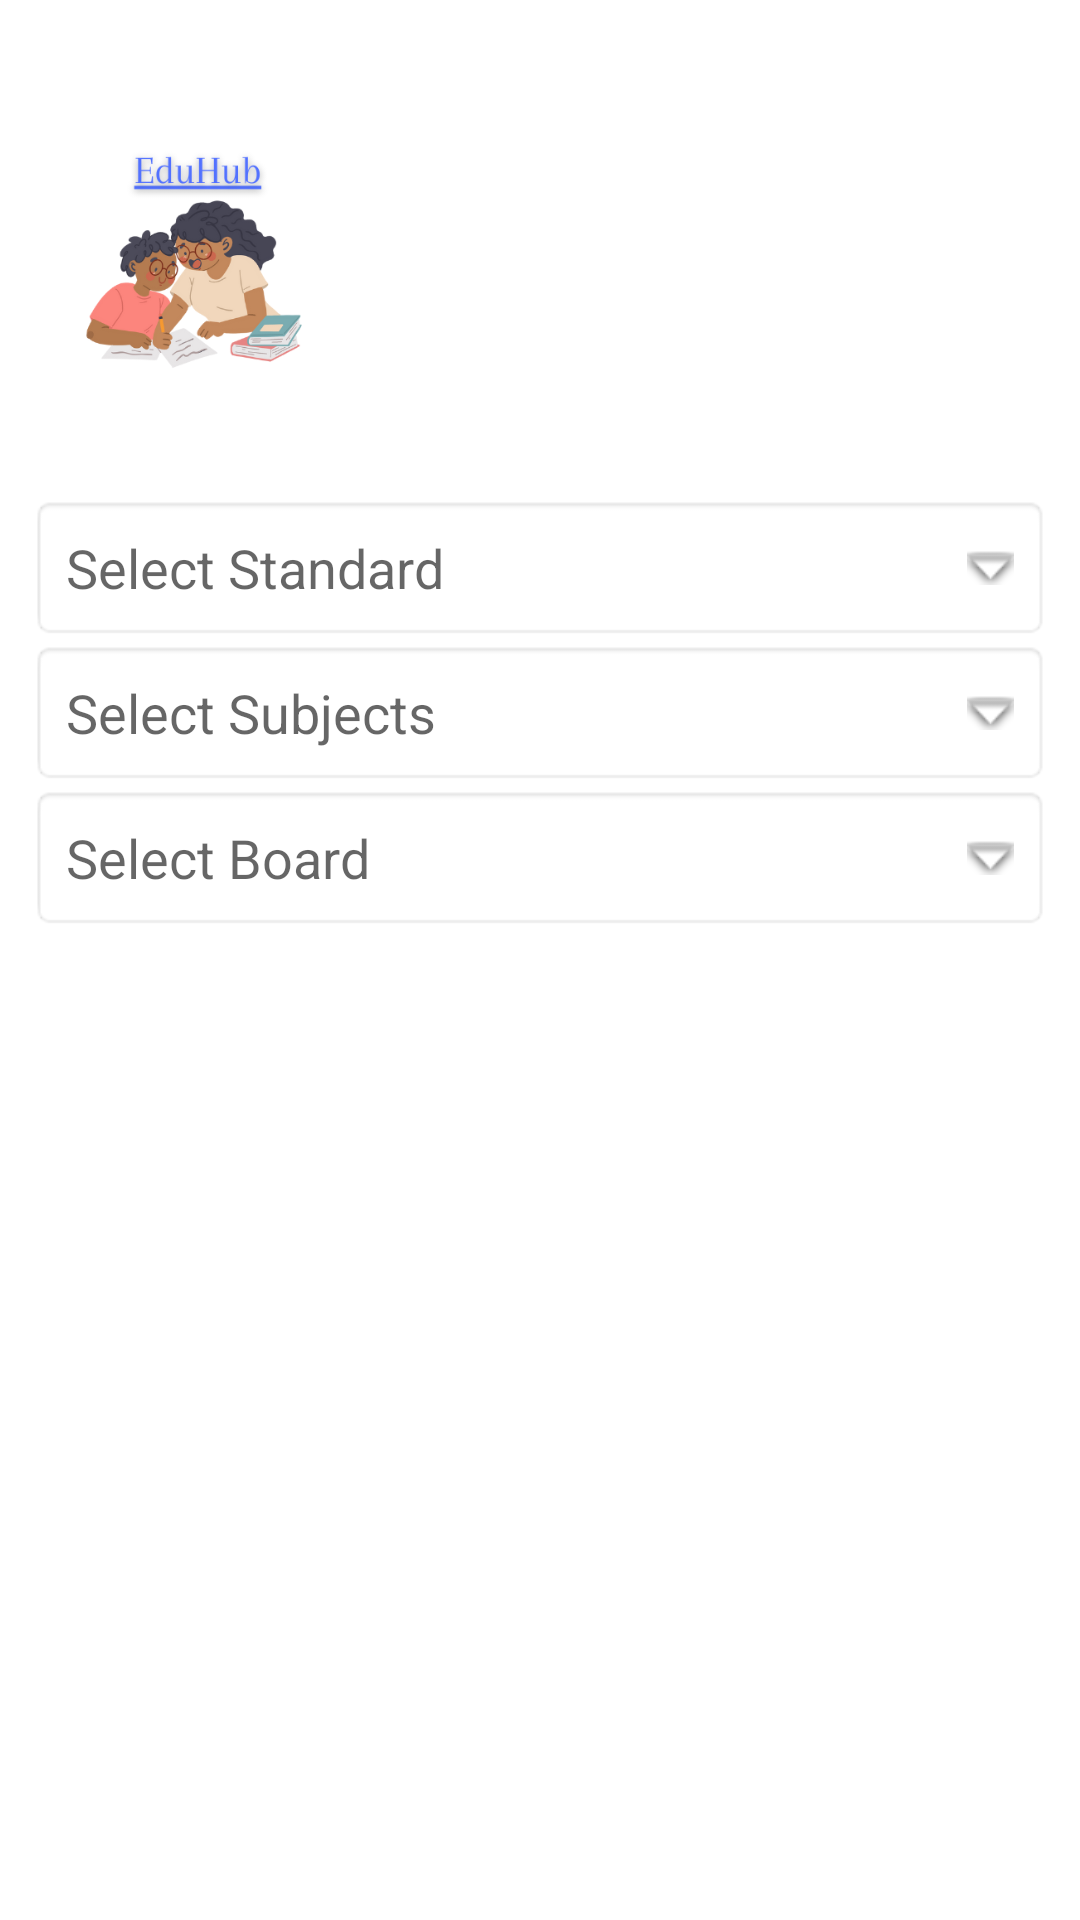

Icon bounding boxes for this 1080px x 1920px phone screenshot, format (left=x1, top=y1, right=x2, bottom=y2):
gyaan daan: (left=86, top=156, right=302, bottom=367)
